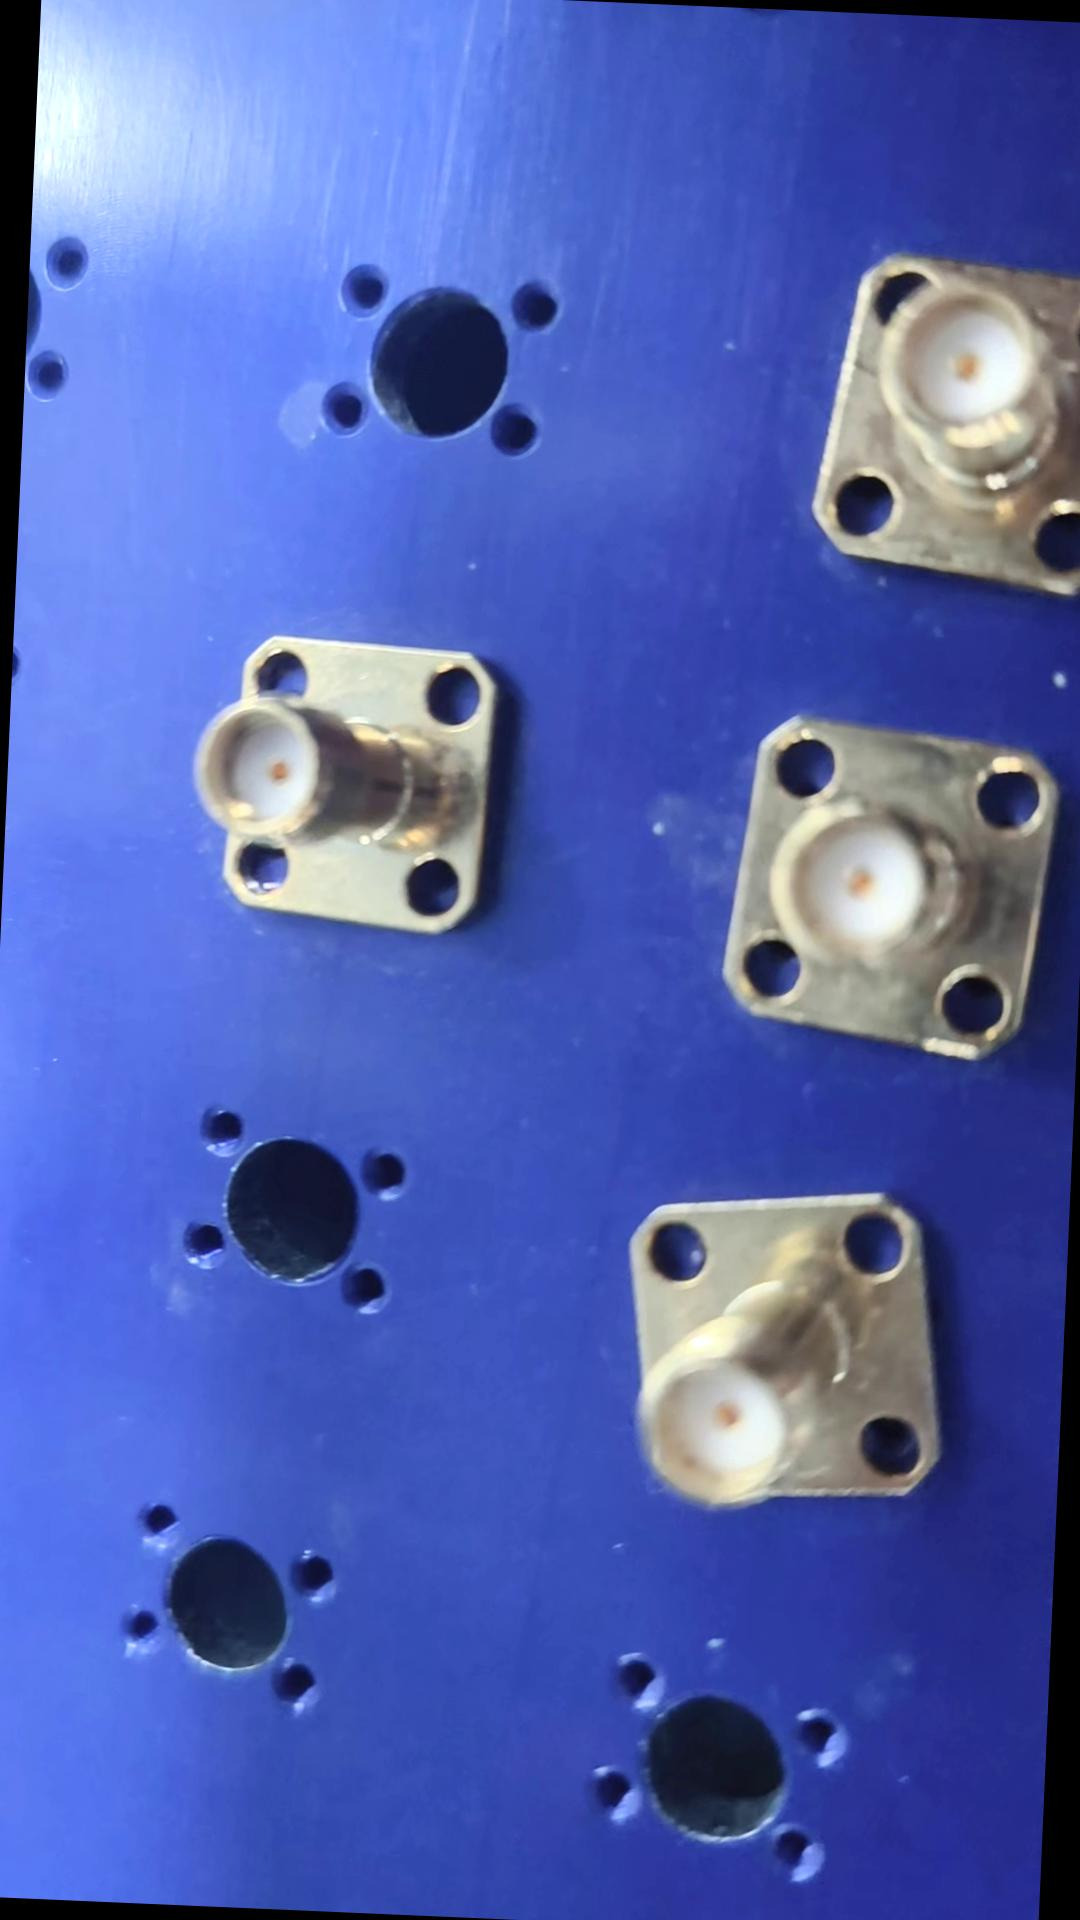SMA: (715, 717, 1055, 1063), (591, 1189, 957, 1509), (189, 617, 517, 944), (795, 245, 1080, 607)
